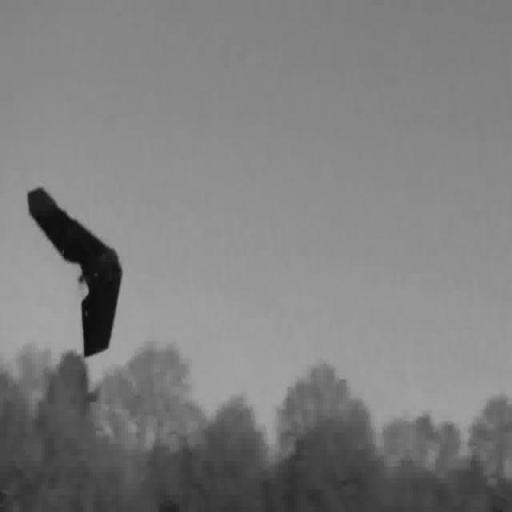uav: (24, 178, 128, 364)
